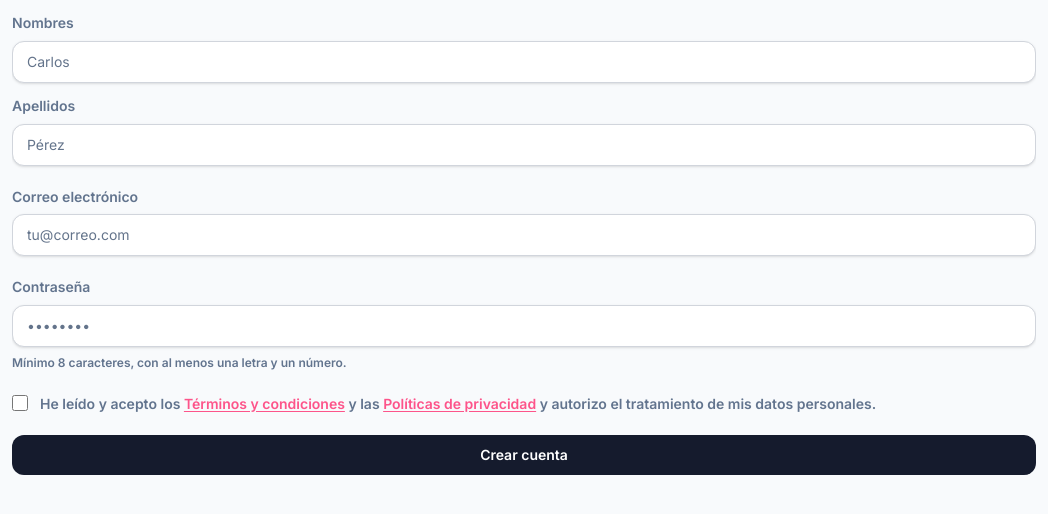
Test: SignupForm › repuebla los campos ya escritos tras un error de validación
Click the button "Crear cuenta": (524, 455) x1=12 y1=435 x2=1036 y2=475
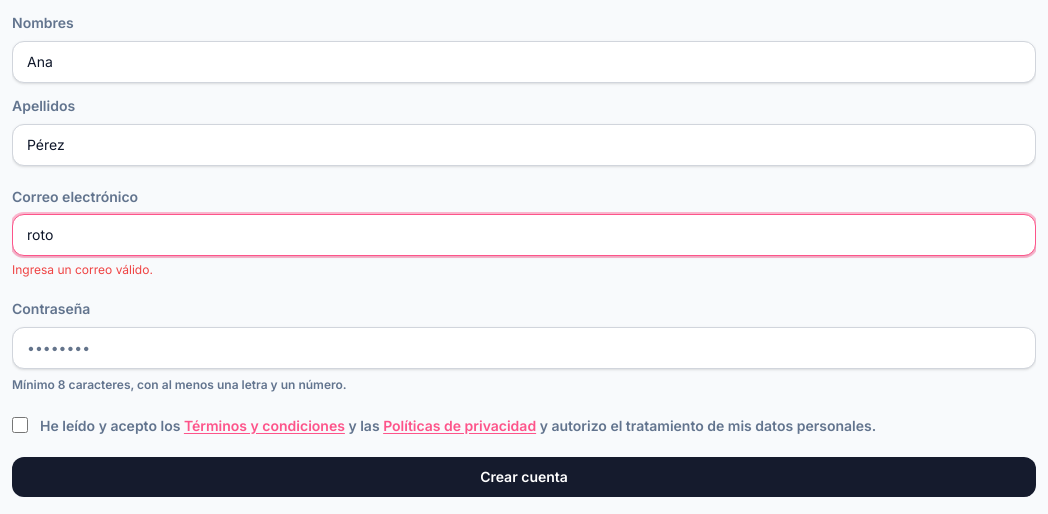
Check: the field labelled "Nombres" holds "Ana", box x1=12 y1=41 x2=1036 y2=83
Check: the field labelled "Apellidos" holds "Pérez", box x1=12 y1=124 x2=1036 y2=166
